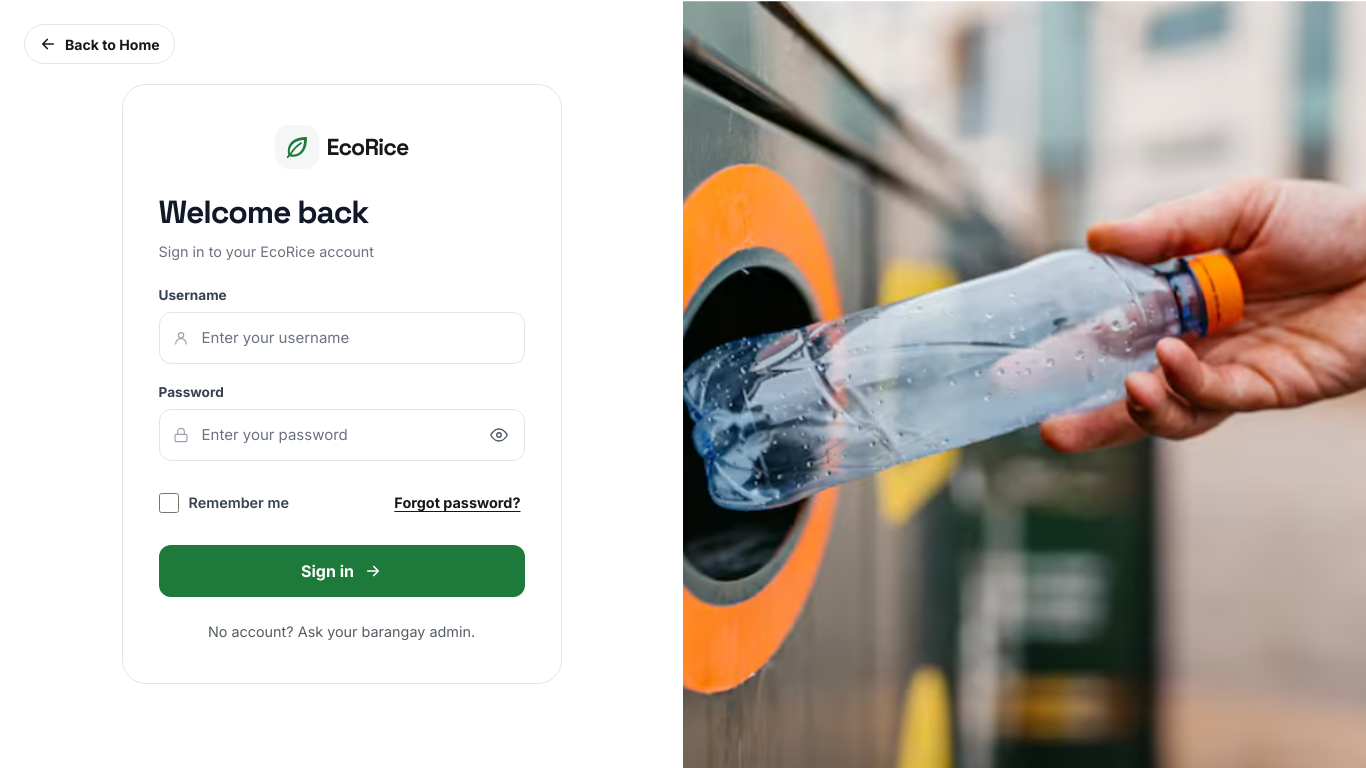
Test case: shows and hides the password
Later steps or results of the test are not shown.
Step 1. Click the button named "Show password" → (498,435), box [476, 413, 520, 457]
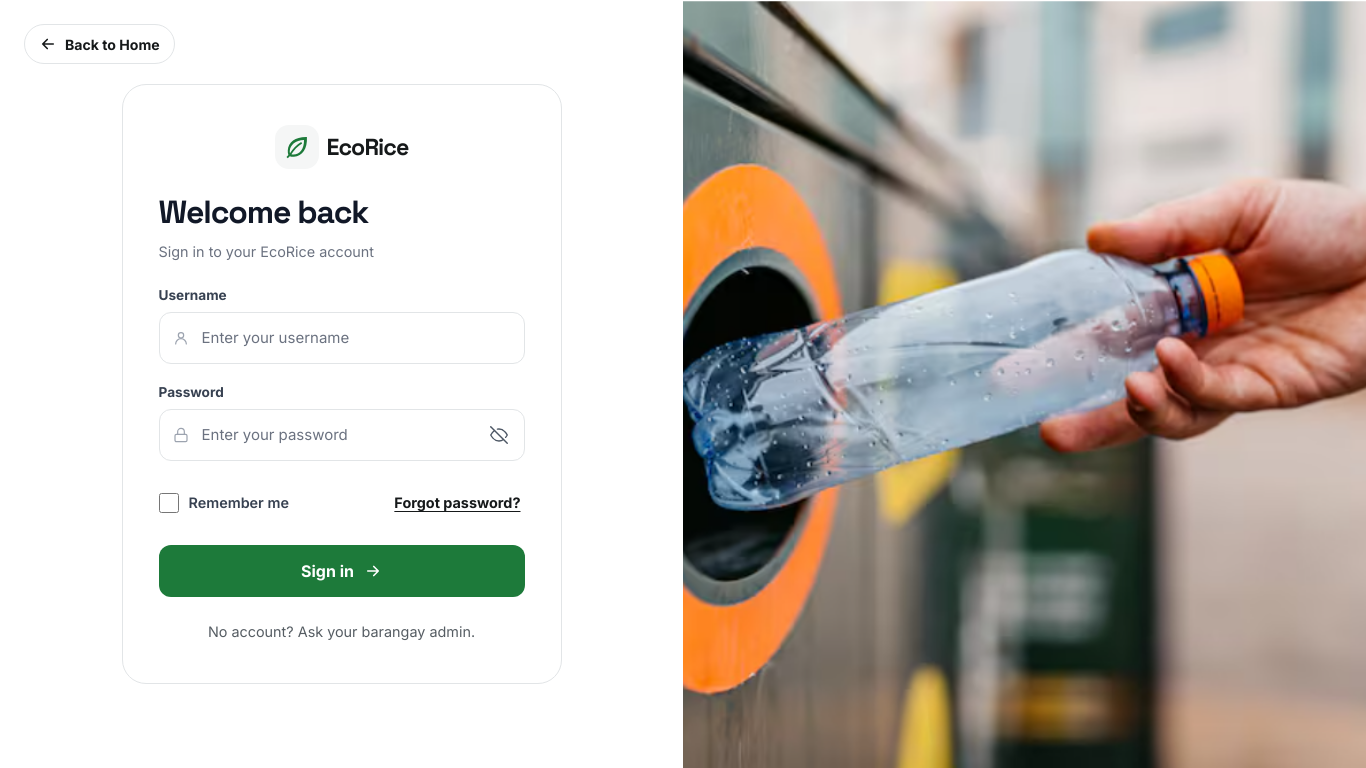
Now the button named "Hide password" is pressed, box [476, 413, 520, 457]
